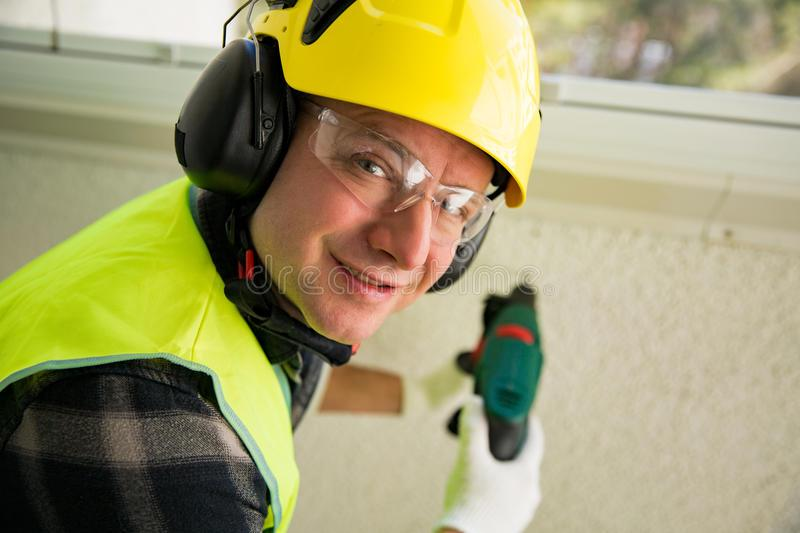helmet: (239, 1, 549, 208)
